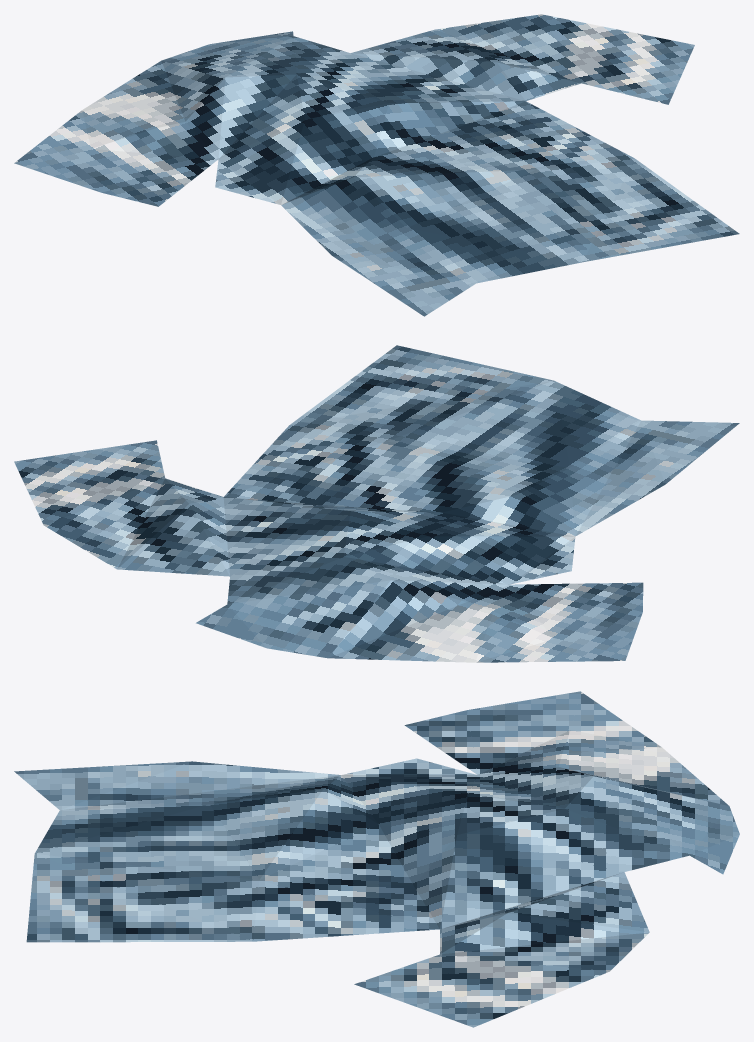
Rendered from crumpled-shirt.obj.
3 renders of one model, top to bottom at view 1: azimuth 30°, elevation 25°; view 2: azimuth 150°, elevation 25°; view 3: azimuth 270°, elevation 25°, orthographic. The views are drawn at different scales.
Visible parts, largest first — view 1: crumpled-shirt; view 2: crumpled-shirt; view 3: crumpled-shirt.
Part boxes in pixels (x1=…): crumpled-shirt: x1=14, y1=14, x2=739, y2=316; crumpled-shirt: x1=14, y1=345, x2=739, y2=662; crumpled-shirt: x1=14, y1=691, x2=739, y2=1027.
Size of the model in its own units: 0.57 by 0.0244 by 0.52.
